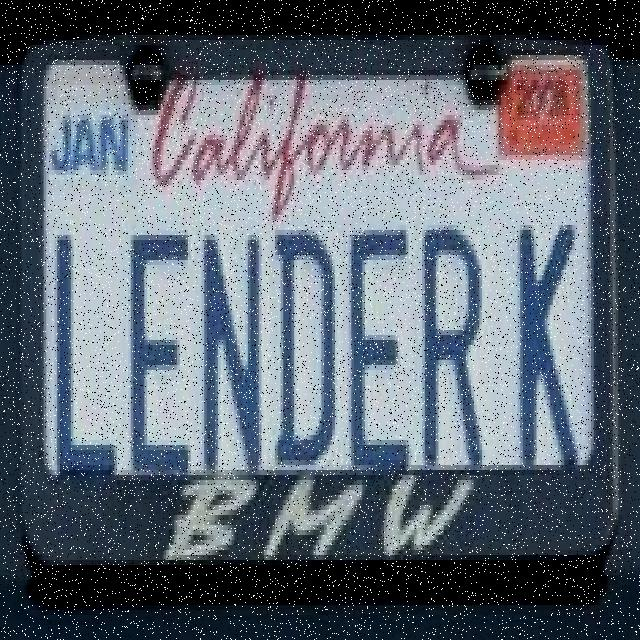licenseplate: (15, 34, 632, 581)
